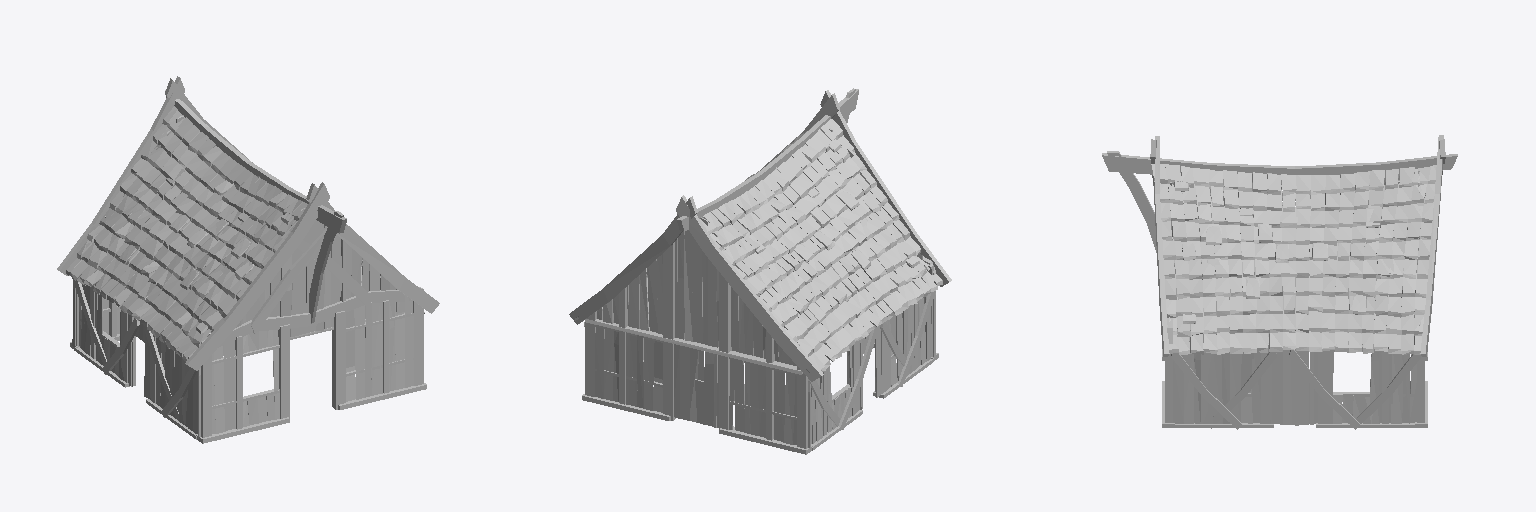
The model's file is fletcher.obj.
The picture shows the model from 3 angles: view 1: azimuth 30°, elevation 25°; view 2: azimuth 150°, elevation 25°; view 3: azimuth 270°, elevation 25°; orthographic projection.
Parts seen in each view (by area): view 1: Cube_Cube.000, construction.003_Cube.000, Cube.003, Cube.005_Cube.000, Cube.009_Cube.000, Cube.003_Cube.000; view 2: Cube_Cube.000, construction.003_Cube.000, Cube.005_Cube.000, Cube.003, Cube.009_Cube.000, Cube.003_Cube.000, construction.006_Cube.000; view 3: Cube_Cube.000, construction.003_Cube.000, Cube.003, Cube.005_Cube.000, Cube.009_Cube.000, Cube.003_Cube.000.
Part boxes in pixels (bbox=[...]): Cube_Cube.000: bbox=[66, 106, 380, 361]; construction.003_Cube.000: bbox=[72, 115, 413, 438]; Cube.003: bbox=[57, 76, 439, 370]; Cube.005_Cube.000: bbox=[70, 143, 426, 443]; Cube.009_Cube.000: bbox=[72, 278, 424, 420]; Cube.003_Cube.000: bbox=[119, 169, 293, 333]; Cube_Cube.000: bbox=[575, 119, 942, 378]; construction.003_Cube.000: bbox=[595, 128, 935, 449]; Cube.005_Cube.000: bbox=[582, 242, 938, 454]; Cube.003: bbox=[569, 88, 951, 381]; Cube.009_Cube.000: bbox=[584, 291, 935, 429]; Cube.003_Cube.000: bbox=[745, 133, 919, 322]; construction.006_Cube.000: bbox=[585, 271, 893, 374]; Cube_Cube.000: bbox=[1151, 164, 1436, 355]; construction.003_Cube.000: bbox=[1168, 168, 1421, 425]; Cube.003: bbox=[1102, 135, 1457, 356]; Cube.005_Cube.000: bbox=[1162, 198, 1427, 427]; Cube.009_Cube.000: bbox=[1171, 350, 1421, 429]; Cube.003_Cube.000: bbox=[1174, 173, 1393, 323].
Bounding box in the file's own units: 11.12 × 9.98 × 13.55.